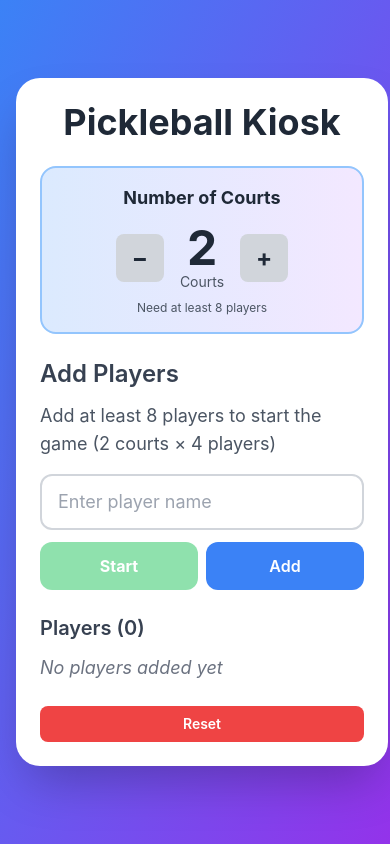
Scenario: PlayerSetup › Court Count Selection › decrements court count when minus button is clicked
Find the − button
Click the button "−" at (140, 258), box [116,234,164,282]
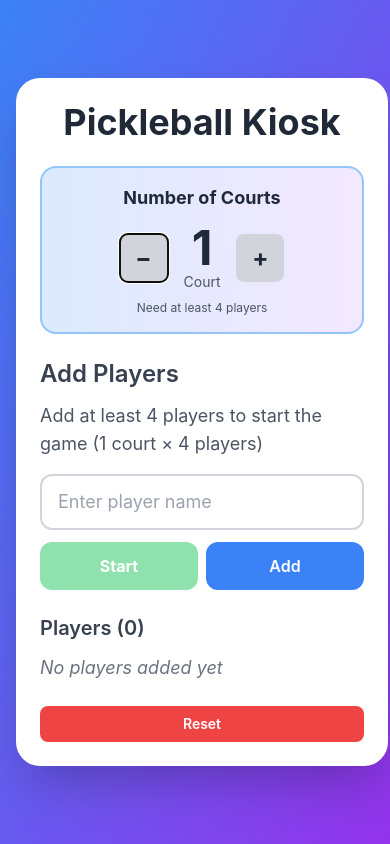
Expected: the text "1" is shown, [192,218,212,277]
